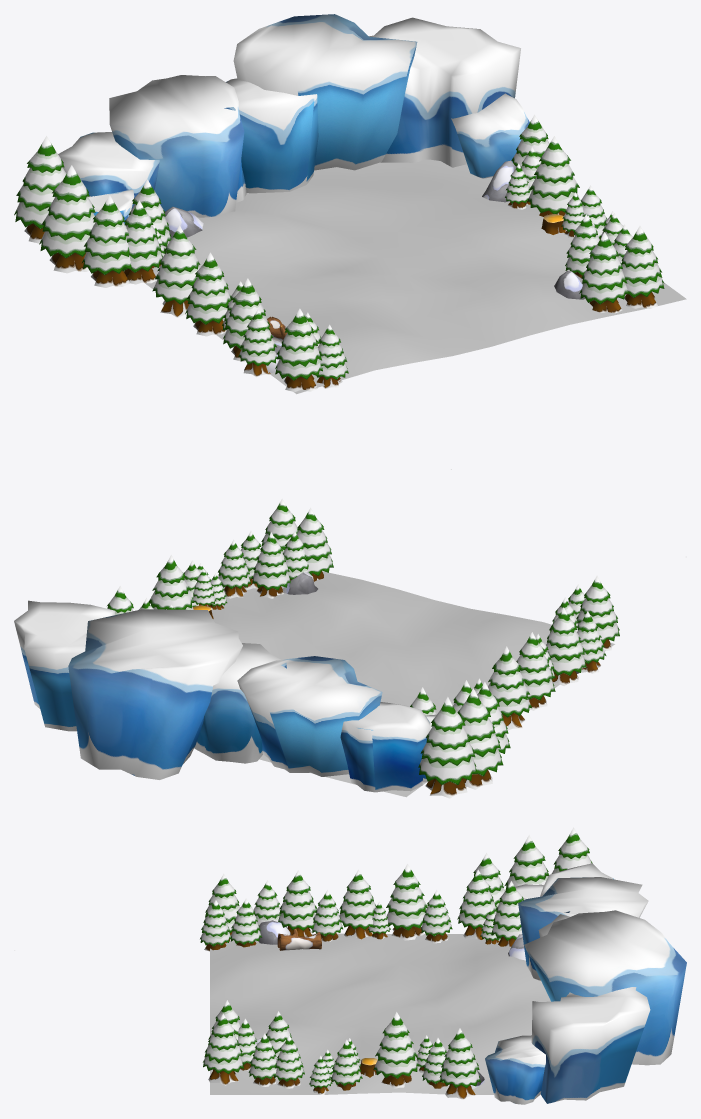
The model's file is Newbie_1.FBX.
3 renders of one model, top to bottom at view 1: azimuth 30°, elevation 25°; view 2: azimuth 150°, elevation 25°; view 3: azimuth 270°, elevation 25°, orthographic. The views are drawn at different scales.
Parts seen in each view (by area): view 1: tereno1, Iceberg03, Iceberg006, Iceberg05, Iceberg02, Iceberg01, Iceberg008, Three038, Three037, Three039, Three, Three002 (+16 smaller); view 2: tereno1, Iceberg03, Iceberg006, Iceberg05, Iceberg01, Iceberg02, Three039, Three038, Three, Three009, Three008, Three018 (+11 smaller); view 3: tereno1, Iceberg03, Iceberg05, Iceberg006, Iceberg008, Three012, Three, Three019, Three014, Three008, Three009, Three004 (+21 smaller).
Part boxes in pixels (x1=…): tereno1: x1=145, y1=159, x2=686, y2=394; Iceberg03: x1=233, y1=14, x2=417, y2=170; Iceberg006: x1=109, y1=75, x2=246, y2=217; Iceberg05: x1=369, y1=17, x2=520, y2=167; Iceberg02: x1=224, y1=78, x2=318, y2=193; Iceberg01: x1=58, y1=132, x2=159, y2=208; Iceberg008: x1=451, y1=93, x2=529, y2=178; Three038: x1=39, y1=165, x2=95, y2=273; Three037: x1=82, y1=195, x2=131, y2=287; Three039: x1=14, y1=136, x2=66, y2=243; Three: x1=152, y1=225, x2=200, y2=317; Three002: x1=275, y1=308, x2=322, y2=391; tereno1: x1=211, y1=571, x2=614, y2=797; Iceberg03: x1=68, y1=609, x2=242, y2=779; Iceberg006: x1=237, y1=656, x2=382, y2=776; Iceberg05: x1=14, y1=600, x2=114, y2=731; Iceberg01: x1=340, y1=702, x2=430, y2=792; Iceberg02: x1=194, y1=643, x2=286, y2=763; Three039: x1=418, y1=697, x2=477, y2=798; Three038: x1=457, y1=688, x2=503, y2=789; Three: x1=488, y1=646, x2=531, y2=730; Three009: x1=546, y1=607, x2=586, y2=686; Three008: x1=516, y1=632, x2=555, y2=710; Three018: x1=252, y1=532, x2=290, y2=598; tereno1: x1=210, y1=933, x2=550, y2=1094; Iceberg03: x1=524, y1=910, x2=686, y2=1065; Iceberg05: x1=531, y1=987, x2=650, y2=1103; Iceberg006: x1=518, y1=877, x2=648, y2=980; Iceberg008: x1=485, y1=1035, x2=545, y2=1104; Three012: x1=373, y1=1012, x2=419, y2=1088; Three: x1=386, y1=864, x2=427, y2=940; Three019: x1=203, y1=1013, x2=244, y2=1085; Three014: x1=439, y1=1028, x2=480, y2=1099; Three008: x1=339, y1=869, x2=376, y2=939; Three009: x1=278, y1=870, x2=317, y2=936; Three004: x1=457, y1=869, x2=496, y2=939.
Bounding box in the file's own units: 631 × 146 × 884.
